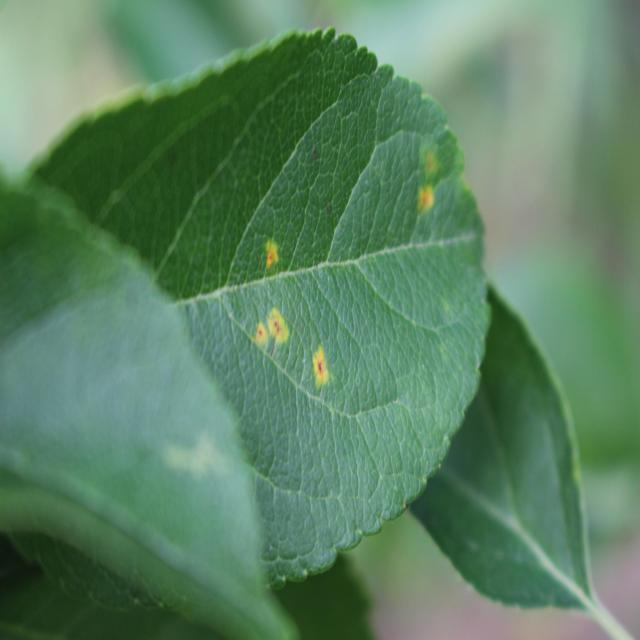Rust: (416, 117, 443, 235), (243, 300, 294, 359), (253, 224, 302, 282), (303, 331, 332, 410)
